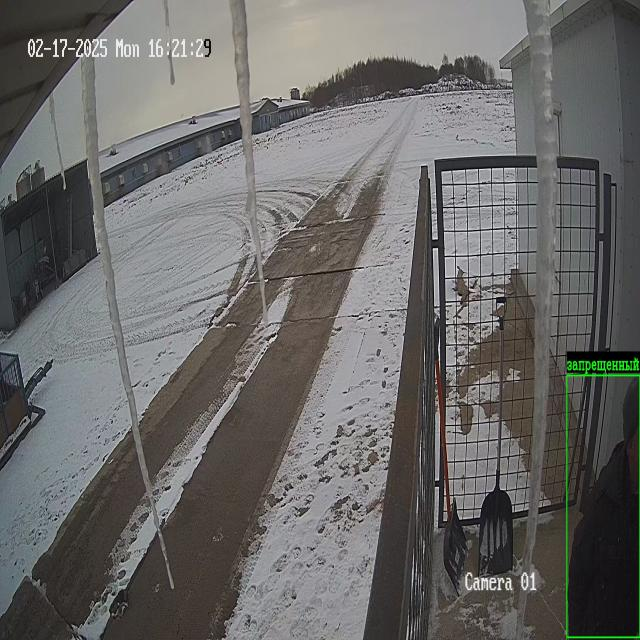Person: (568, 379, 640, 636)
